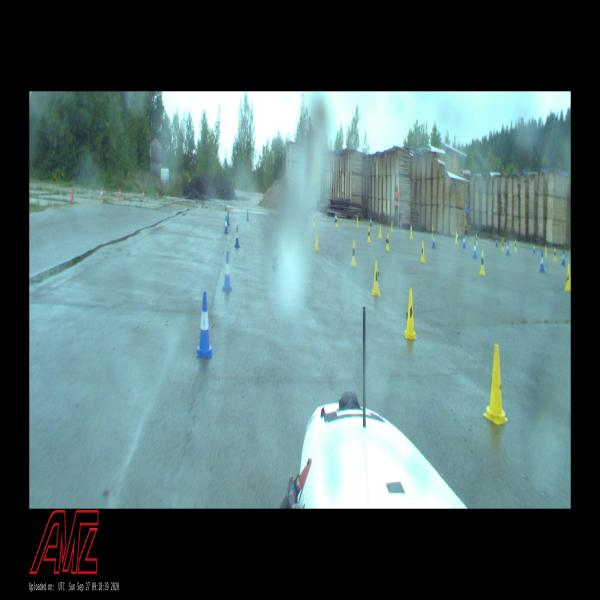blue_cone: (196, 292, 213, 358), (223, 252, 232, 291), (234, 225, 240, 248), (539, 251, 545, 273), (223, 216, 228, 233), (473, 241, 477, 258), (562, 250, 566, 266), (462, 233, 466, 248), (432, 233, 436, 248), (506, 241, 510, 256), (227, 211, 230, 226), (246, 210, 249, 220), (495, 238, 498, 246), (533, 243, 535, 253), (370, 216, 372, 226), (334, 212, 336, 222), (457, 231, 459, 240)
orange_cone: (70, 188, 74, 199), (100, 188, 103, 199), (142, 190, 145, 198), (119, 188, 121, 199)
yellow_cone: (483, 344, 508, 424), (403, 289, 417, 339), (372, 261, 380, 295), (479, 251, 486, 276), (565, 264, 571, 292), (350, 241, 356, 266), (420, 241, 425, 262), (314, 231, 319, 251), (386, 233, 390, 250), (367, 228, 371, 242), (378, 225, 382, 238), (544, 246, 548, 257), (514, 239, 517, 252), (501, 239, 504, 252), (455, 231, 458, 244), (410, 226, 413, 238), (313, 215, 316, 226), (335, 216, 338, 226), (356, 217, 359, 227), (554, 247, 556, 260), (431, 226, 433, 238), (476, 234, 478, 245), (391, 221, 393, 232)
